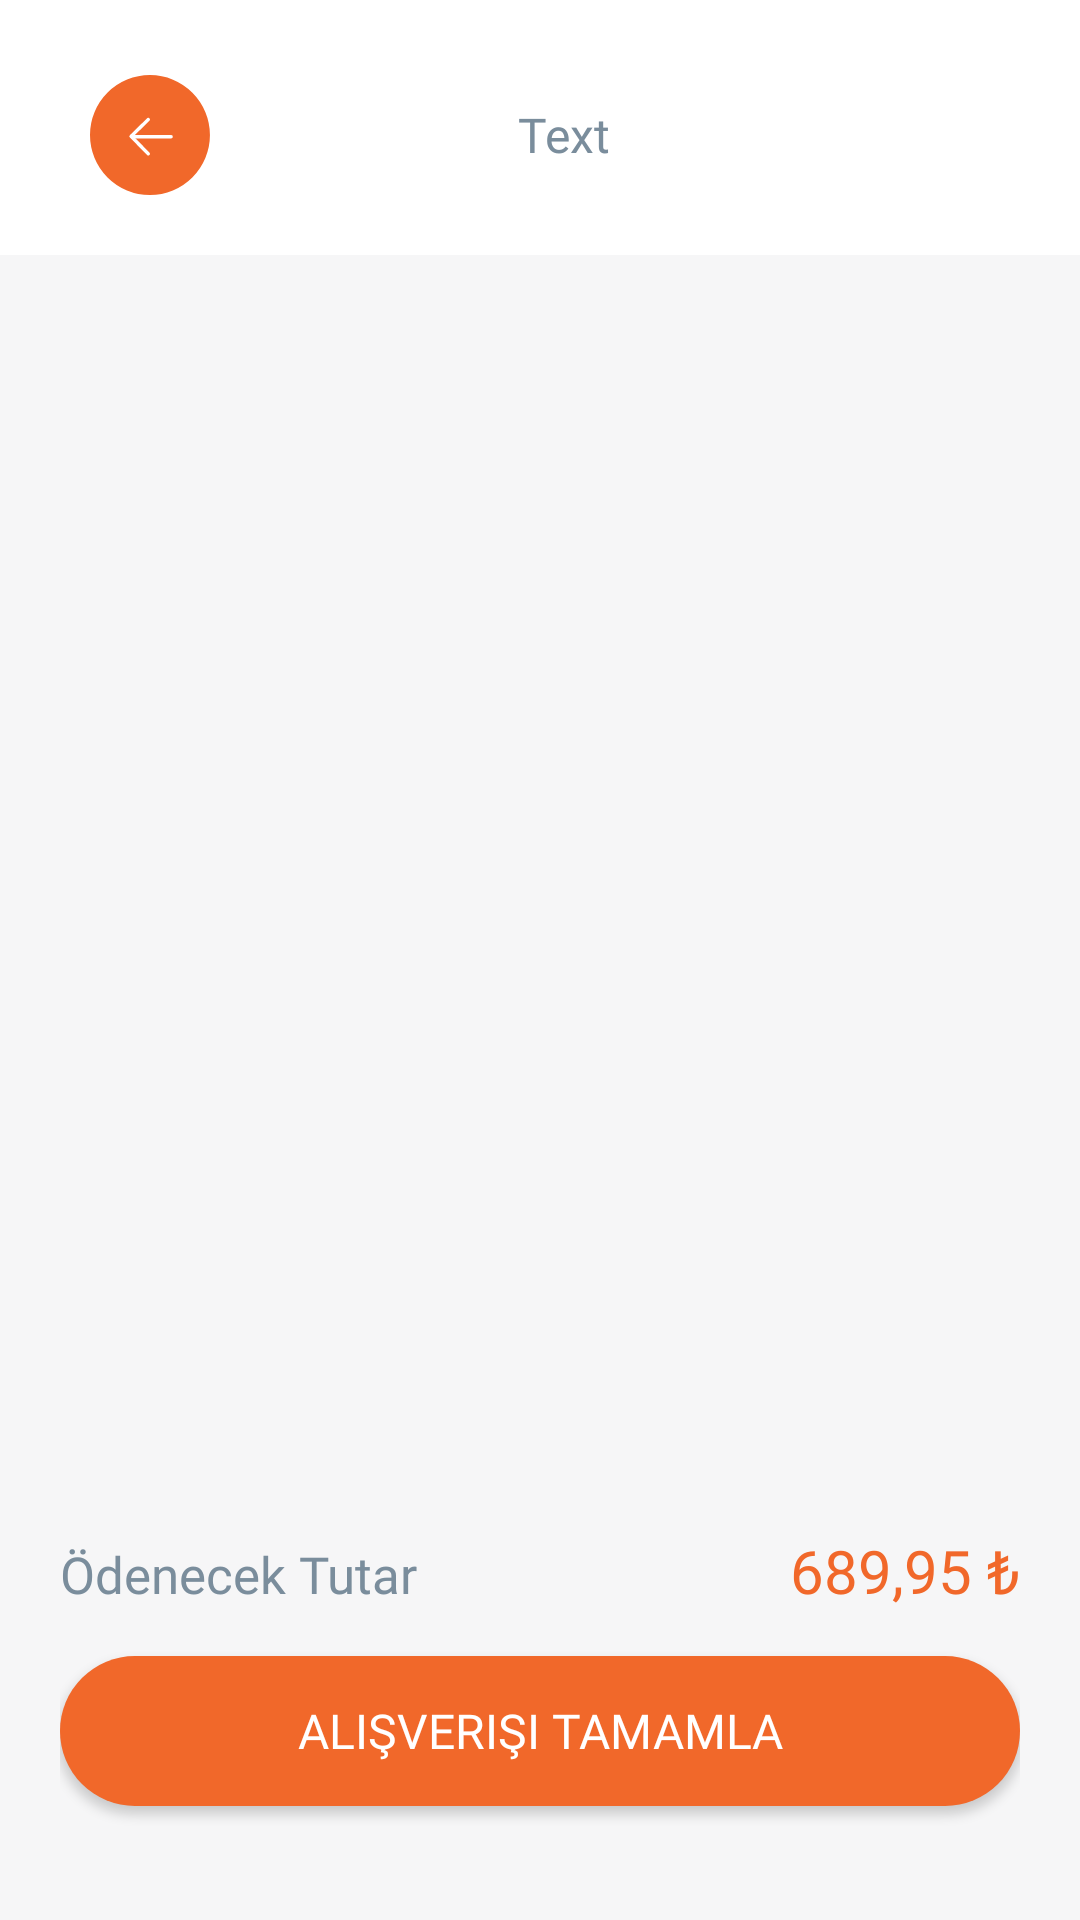

Icon click points for this 1080×1920 phone screenshot, format (x,y):
back: (150,135)
